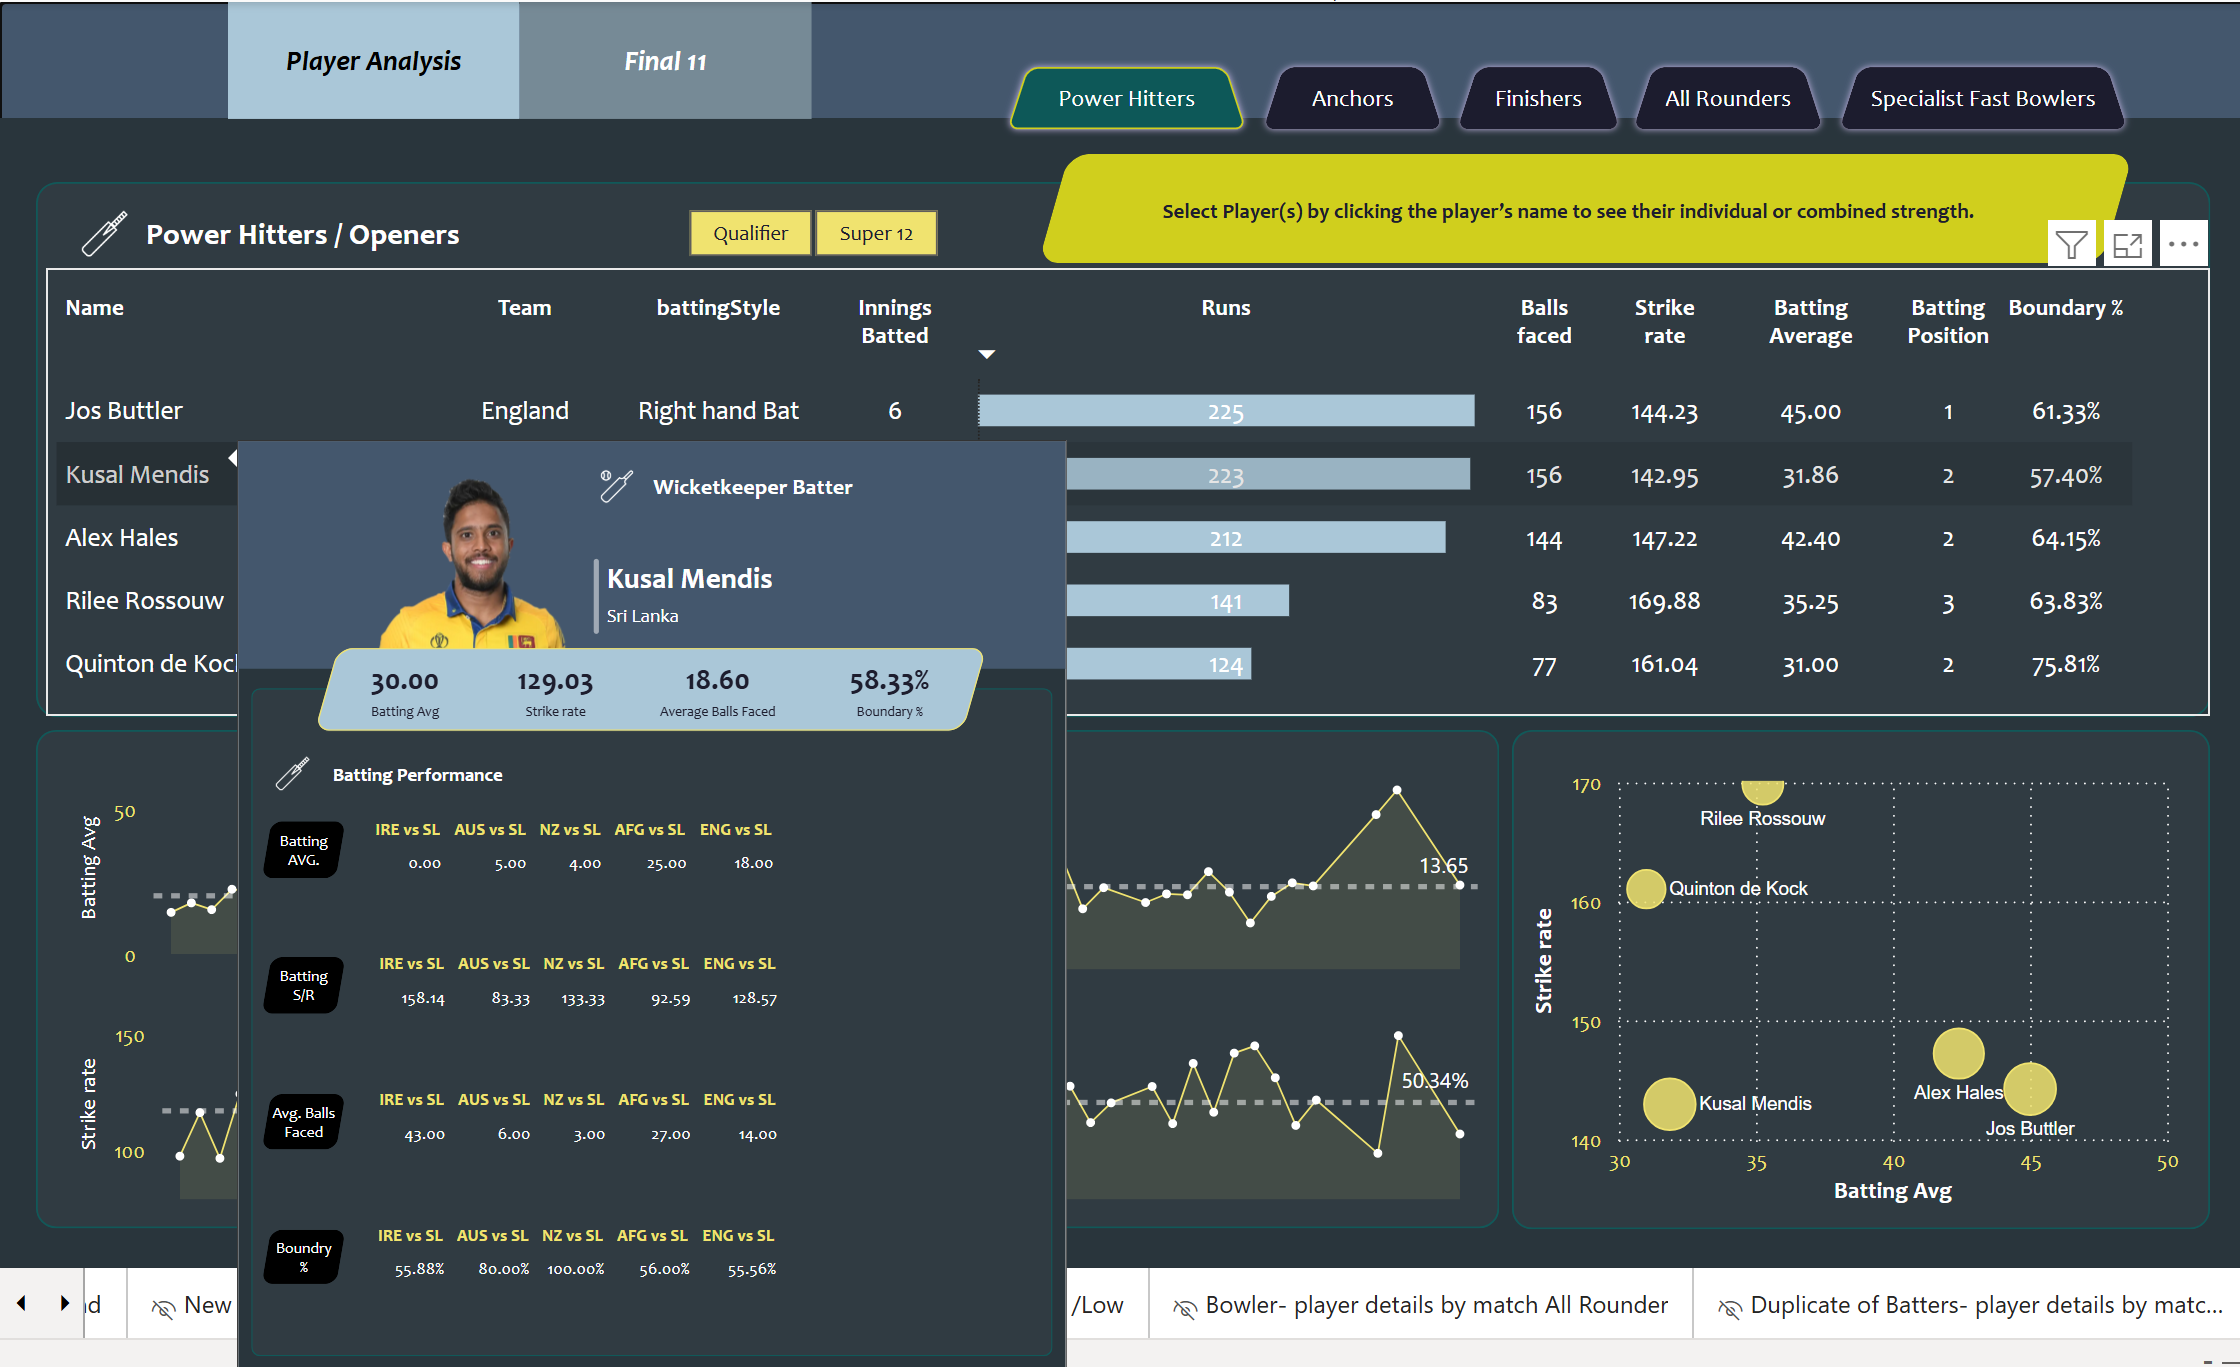

What the dashboard file says about the page in this screenshot:
{"tool":"powerbi","page":{"name":"New Final12","canvas":[1280,720],"ordinal":5},"visuals":[{"type":"shape","box":[0,66,1280,654],"z":0},{"type":"shape","box":[210.7,75.5,1063.4,632.2],"z":1000},{"type":"shape","box":[7,122.9,196,585.1],"z":1000,"group":"g1"},{"type":"actionButton","title":"Button Player Ana selected","box":[283.6,0,165.8,66.6],"z":2000},{"type":"actionButton","title":"Button Player Ana selected","box":[120.9,0,164.3,65.1],"z":3000},{"type":"group","id":"g1","title":"Group 1","box":[7,122.9,196,585.1],"z":4000},{"type":"shape","box":[19.6,104.9,171.5,30.4],"z":5000},{"type":"pivotTable","fields":{"Values":["Min(dim_player.team)","Min(dim_player.Batting Style)","Min(dim_player.Playing Role)","Min(dim_player.Bowling Style)","Key_Measures.Bat Avg","Key_Measures.Strike rate","Key_Measures.Economy","Key_Measures.Bowling Strike Rate","Key_Measures.Bowling Average","Sum(dim_player.Custom Batting Order)"],"Rows":["dim_player.name","dim_player.image"]},"box":[219.9,85.4,1048,501.1],"z":6000},{"type":"shape","box":[219.9,618.4,999.7,63],"z":7000},{"type":"card","fields":{"Values":["Key_Measures.Strike rate"]},"box":[548.4,620.2,93,60],"z":8000},{"type":"card","fields":{"Values":["Key_Measures.Avergate Balls Faced"]},"box":[657.3,621.9,109.5,56.9],"z":9000},{"type":"card","fields":{"Values":["Key_Measures.Bat Avg"]},"box":[449.4,620.2,92,60],"z":10000},{"type":"slicer","fields":{"Values":["dim_player.name"]},"box":[19.7,149.3,170.5,558.7],"z":11000,"group":"g1"},{"type":"card","fields":{"Values":["Key_Measures.Bowling Strike Rate"]},"box":[907.4,618.4,92.3,60.4],"z":11000},{"type":"card","fields":{"Values":["Key_Measures.Economy"]},"box":[1012.6,618.4,100.9,60.4],"z":12000},{"type":"card","fields":{"Values":["Key_Measures.Dot ball %"]},"box":[1113.5,617.6,100.1,60.4],"z":13000},{"type":"card","fields":{"Values":["Key_Measures.Bowling Average"]},"box":[794.4,617.6,91.4,60.4],"z":14000},{"type":"shape","box":[251.8,632.1,172.5,34.3],"z":15000},{"type":"shape","box":[449.4,0,170.5,66.6],"z":16000}]}

Visuals, with their boxes on the page's 1280x720 design canvas (x1, y1, x2, y2). These are canvas units, not pixel positions in the 2240x1367 screenshot, which may show the page scaled, cropped or inside an application window:
shape: [left=0, top=66, right=1280, bottom=720]
shape: [left=211, top=76, right=1274, bottom=708]
shape: [left=7, top=123, right=203, bottom=708]
"Button Player Ana selected" actionButton: [left=284, top=0, right=449, bottom=67]
"Button Player Ana selected" actionButton: [left=121, top=0, right=285, bottom=65]
"Group 1" group: [left=7, top=123, right=203, bottom=708]
shape: [left=20, top=105, right=191, bottom=135]
pivotTable - Min(dim_player.team) x Min(dim_player.Batting Style): [left=220, top=85, right=1268, bottom=586]
shape: [left=220, top=618, right=1220, bottom=681]
card - Key_Measures.Strike rate: [left=548, top=620, right=641, bottom=680]
card - Key_Measures.Avergate Balls Faced: [left=657, top=622, right=767, bottom=679]
card - Key_Measures.Bat Avg: [left=449, top=620, right=541, bottom=680]
slicer - dim_player.name: [left=20, top=149, right=190, bottom=708]
card - Key_Measures.Bowling Strike Rate: [left=907, top=618, right=1000, bottom=679]
card - Key_Measures.Economy: [left=1013, top=618, right=1114, bottom=679]
card - Key_Measures.Dot ball %: [left=1114, top=618, right=1214, bottom=678]
card - Key_Measures.Bowling Average: [left=794, top=618, right=886, bottom=678]
shape: [left=252, top=632, right=424, bottom=666]
shape: [left=449, top=0, right=620, bottom=67]
